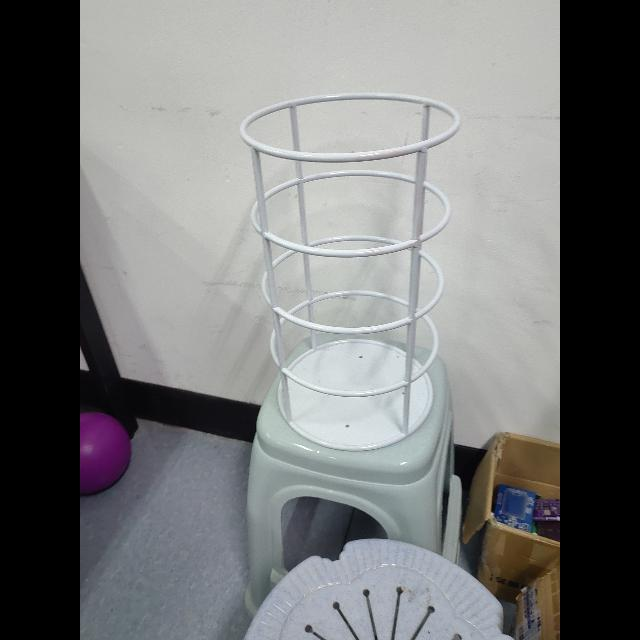S: (237, 90, 463, 452)
